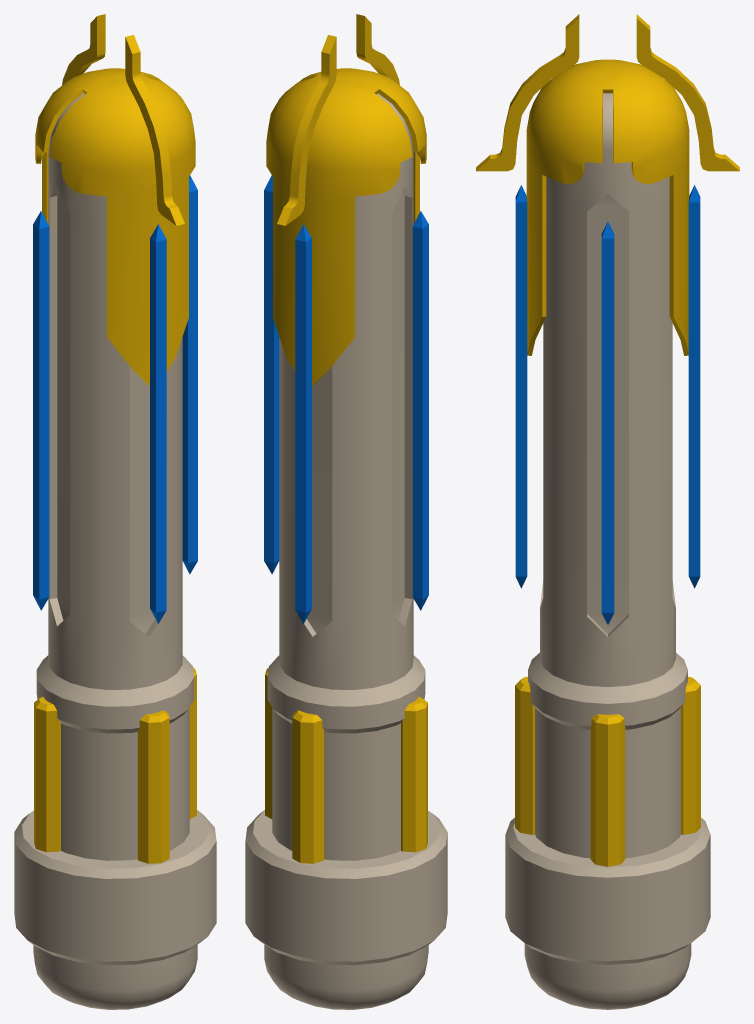
File: mesh_pillar_04.fbx
The picture shows the model from 3 angles, left to right: view 1: azimuth 30°, elevation 25°; view 2: azimuth 150°, elevation 25°; view 3: azimuth 270°, elevation 25°; orthographic projection.
Parts seen in each view (by area): view 1: mesh_pillar_04; view 2: mesh_pillar_04; view 3: mesh_pillar_04.
Part boxes in pixels (x1=…): mesh_pillar_04: x1=14, y1=14, x2=216, y2=1009; mesh_pillar_04: x1=245, y1=14, x2=447, y2=1009; mesh_pillar_04: x1=476, y1=14, x2=739, y2=1009.
Size of the model in its own units: 0.0564 by 0.2944 by 0.0725.
